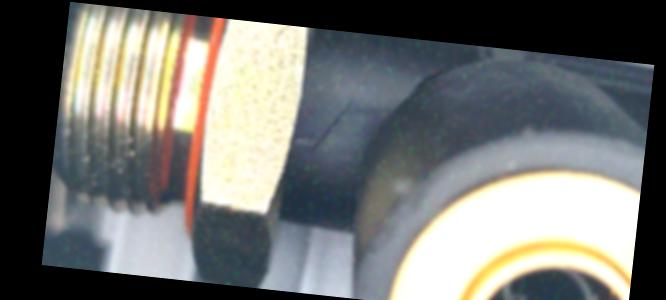craze: (309, 89, 359, 153)
off-centered: (485, 255, 609, 300)
white mark: (287, 127, 311, 146)
